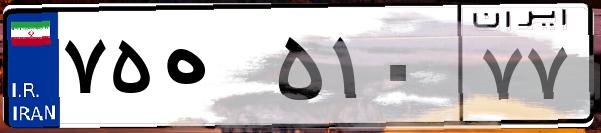0: (385, 28, 445, 110)
1: (330, 28, 385, 110)
5: (270, 28, 330, 110), (110, 28, 158, 98)
7: (57, 26, 110, 100), (475, 38, 525, 113), (525, 38, 570, 115)
ه: (158, 20, 270, 120)
